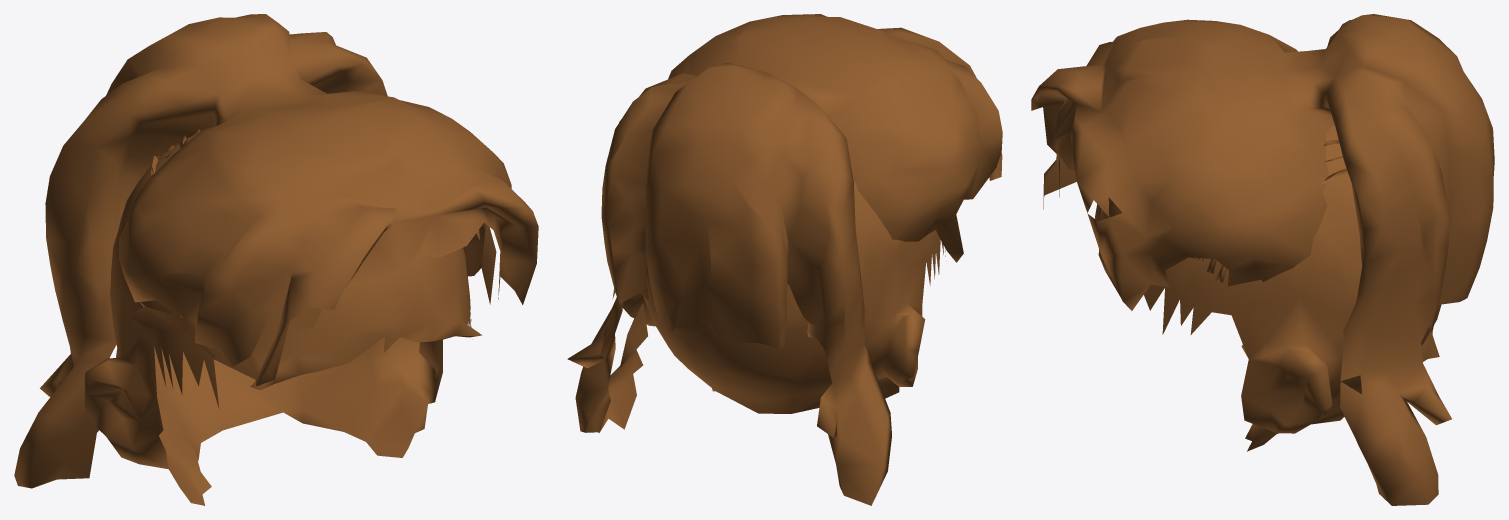
The model's file is ponytail.glb.
The picture shows the model from 3 angles, left to right: view 1: azimuth 30°, elevation 25°; view 2: azimuth 150°, elevation 25°; view 3: azimuth 270°, elevation 25°; orthographic projection. The views are drawn at different scales.
Visible parts, largest first — view 1: Hair, HairScalp; view 2: Hair, HairScalp; view 3: Hair, HairScalp, HairPulledRootStrands.
Boxes of the visible parts, box(x1,y1,x2,y2) form: Hair: box(14, 14, 538, 488); HairScalp: box(84, 133, 481, 505); Hair: box(567, 14, 1002, 505); HairScalp: box(622, 181, 945, 413); Hair: box(1031, 14, 1494, 505); HairScalp: box(1095, 125, 1441, 451); HairPulledRootStrands: box(1198, 140, 1348, 282).
Bounding box in the file's own units: 0.4875 × 0.5573 × 0.5761.
